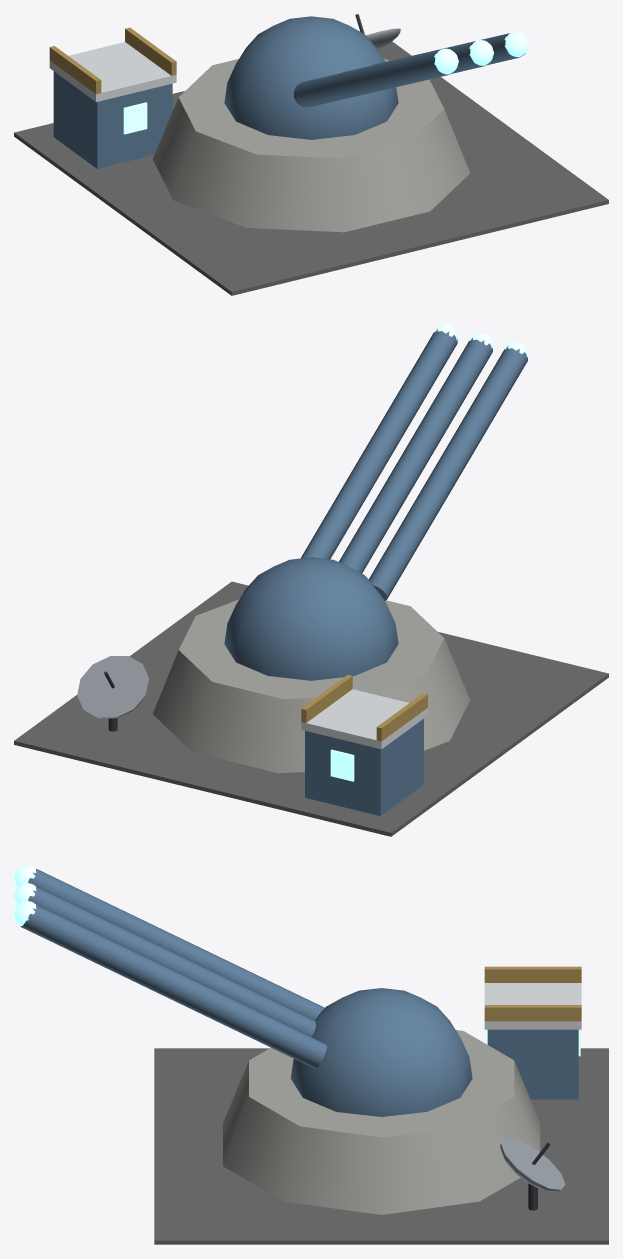
The model's file is bld_special_planetary_defense_a10.glb.
3 renders of one model, top to bottom at view 1: azimuth 30°, elevation 25°; view 2: azimuth 150°, elevation 25°; view 3: azimuth 270°, elevation 25°, orthographic. The views are drawn at different scales.
Parts seen in each view (by area): view 1: body, turret, antenna; view 2: body, turret, antenna; view 3: body, turret, antenna.
Boxes of the visible parts, left/top/right/bottom form: body: left=14, top=27, right=608, bottom=295; turret: left=224, top=16, right=529, bottom=139; antenna: left=355, top=14, right=400, bottom=48; body: left=14, top=581, right=608, bottom=836; turret: left=224, top=324, right=529, bottom=680; antenna: left=77, top=656, right=148, bottom=731; body: left=154, top=966, right=608, bottom=1244; turret: left=14, top=865, right=472, bottom=1116; antenna: left=500, top=1138, right=565, bottom=1210.
Size of what is drawn, in the model's own units: 15 by 9.62 by 19.63.
